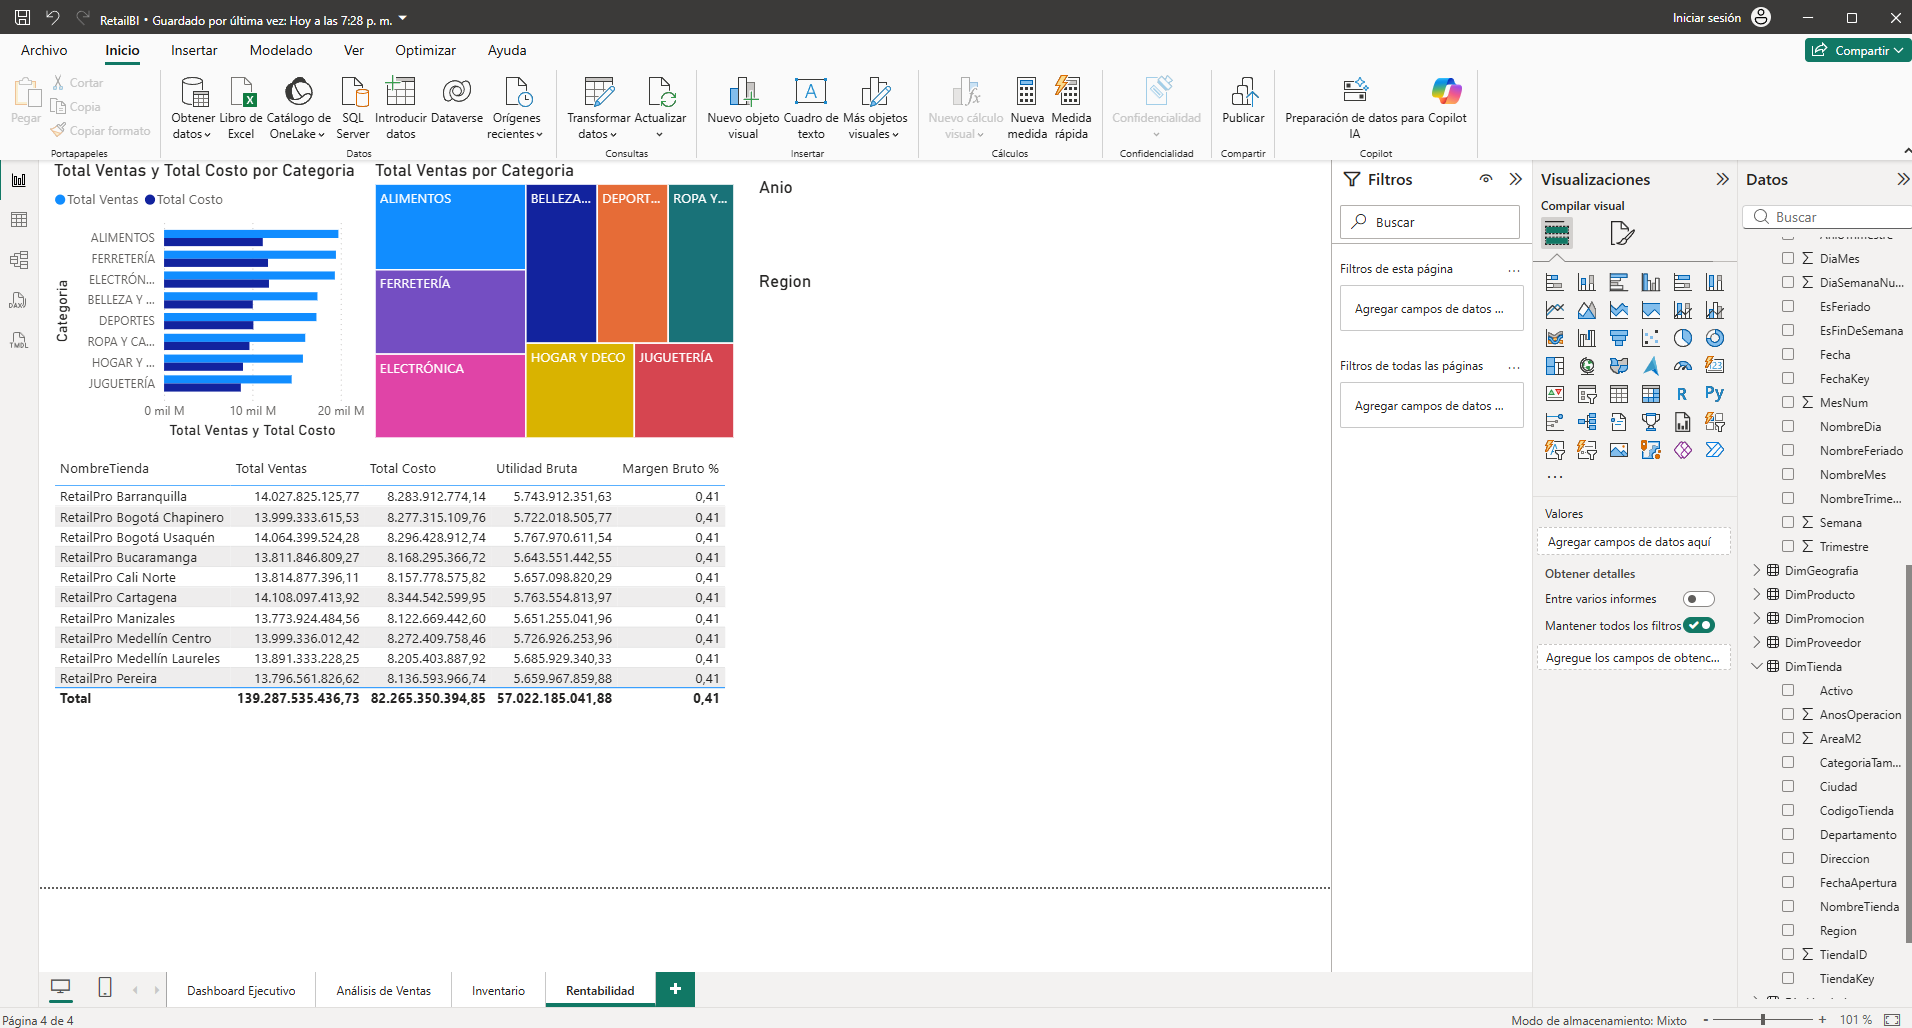

The page's visual inventory and layout, read from the dashboard file:
{"tool":"powerbi","page":{"name":"Rentabilidad","canvas":[1280,720],"ordinal":3},"visuals":[{"type":"clusteredBarChart","fields":{"Category":["DimProducto.Categoria"],"Y":["_Medidas.Total Ventas","_Medidas.Total Costo"]},"box":[9.9,0,318,280.4],"z":0},{"type":"tableEx","fields":{"Values":["DimTienda.NombreTienda","_Medidas.Total Ventas","_Medidas.Total Costo","_Medidas.Utilidad Bruta","_Medidas.Margen Bruto %"]},"box":[9.9,290.3,683.6,261.5],"z":1000},{"type":"treemap","fields":{"Group":["DimProducto.Categoria"],"Values":["_Medidas.Total Ventas"]},"box":[327.9,0,365.6,280.4],"z":2000},{"type":"funnel","fields":{"Category":["DimFecha.Anio"]},"box":[708.4,16.8,119.9,93.1],"z":3000},{"type":"funnel","fields":{"Category":["DimTienda.Region"]},"box":[708.4,110,113.9,100.1],"z":4000}]}

Visuals, with their boxes on the page's 1280x720 design canvas (x1, y1, x2, y2). These are canvas units, not pixel positions in the 1912x1028 screenshot, which may show the page scaled, cropped or inside an application window:
clusteredBarChart - DimProducto.Categoria x _Medidas.Total Ventas: rect(10, 0, 328, 280)
tableEx - DimTienda.NombreTienda x _Medidas.Total Ventas: rect(10, 290, 694, 552)
treemap - DimProducto.Categoria x _Medidas.Total Ventas: rect(328, 0, 694, 280)
funnel - DimFecha.Anio: rect(708, 17, 828, 110)
funnel - DimTienda.Region: rect(708, 110, 822, 210)
